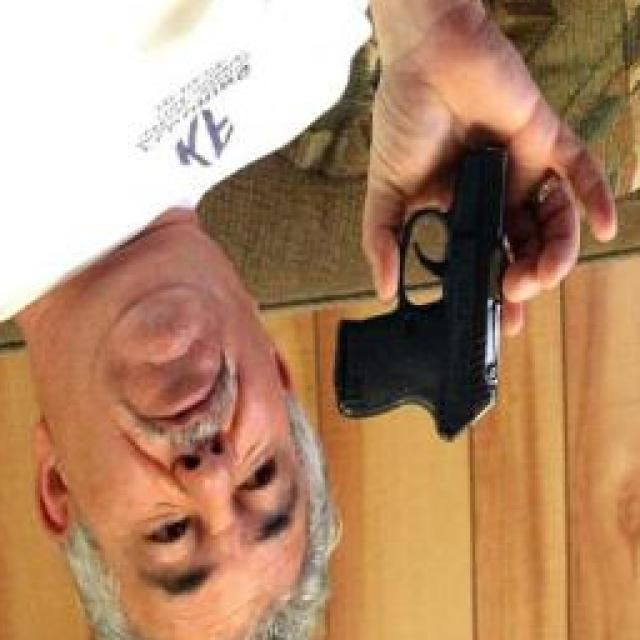pistol: (325, 138, 513, 452)
